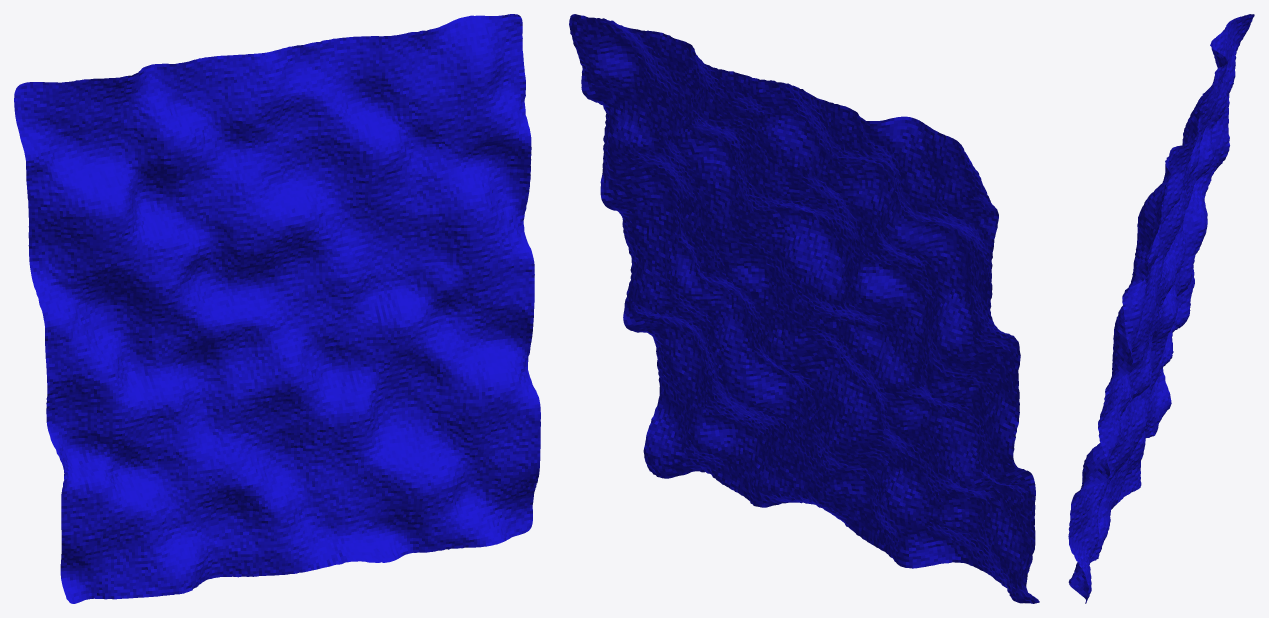
The model's file is Ab'Dael Desert.fbx.
The picture shows the model from 3 angles, left to right: view 1: azimuth 30°, elevation 25°; view 2: azimuth 150°, elevation 25°; view 3: azimuth 270°, elevation 25°; orthographic projection. The views are drawn at different scales.
Parts seen in each view (by area): view 1: Plane; view 2: Plane; view 3: Plane.
Part boxes in pixels (box(x1,y1,x2,y2)): Plane: box(14, 14, 540, 603); Plane: box(569, 14, 1039, 603); Plane: box(1068, 14, 1254, 603).
Bounding box in the file's own units: 387062 × 388377 × 155004.
